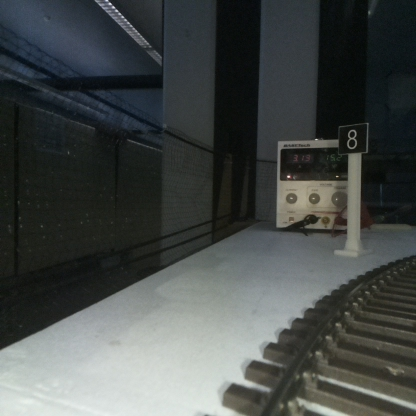black-info-8: (339, 125, 366, 255)
